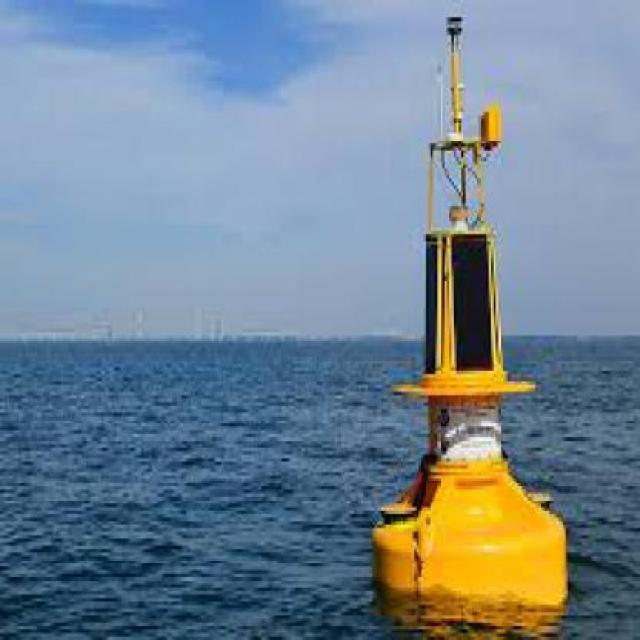buoy: (360, 1, 586, 630)
